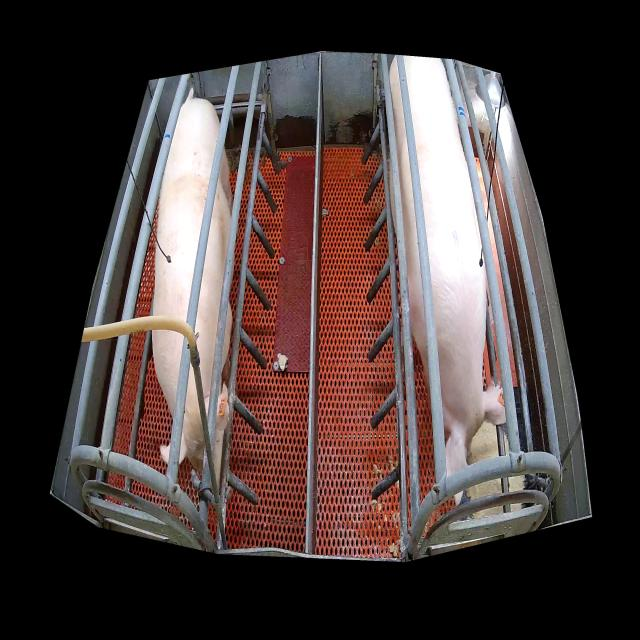pig: (388, 55, 506, 477), (152, 98, 233, 492)
